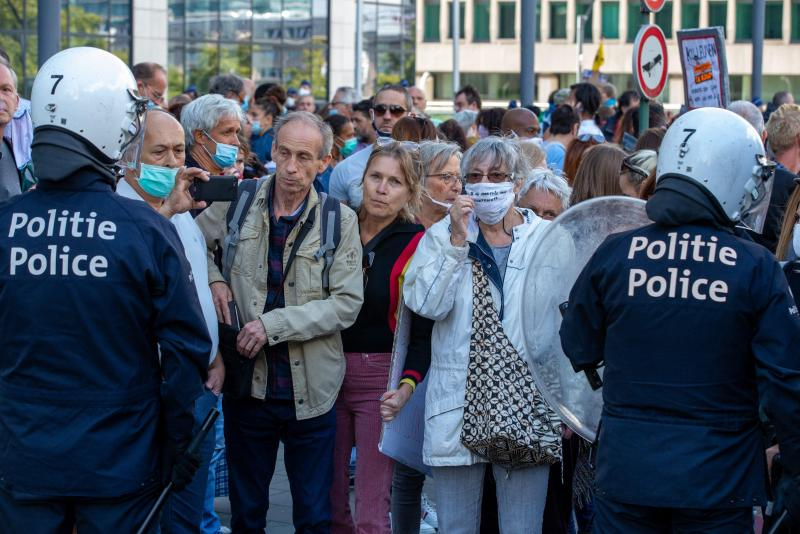with_incorrect_mask: (134, 128, 188, 200), (420, 148, 463, 214), (198, 111, 239, 168), (373, 93, 408, 138)
with_mask: (464, 164, 516, 225)
without_mask: (276, 128, 318, 194), (364, 161, 405, 216)
